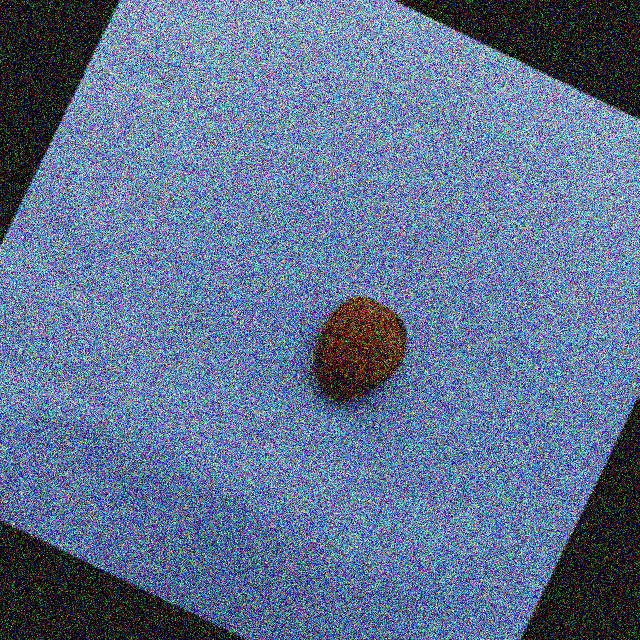grade1: (285, 275, 429, 429)
